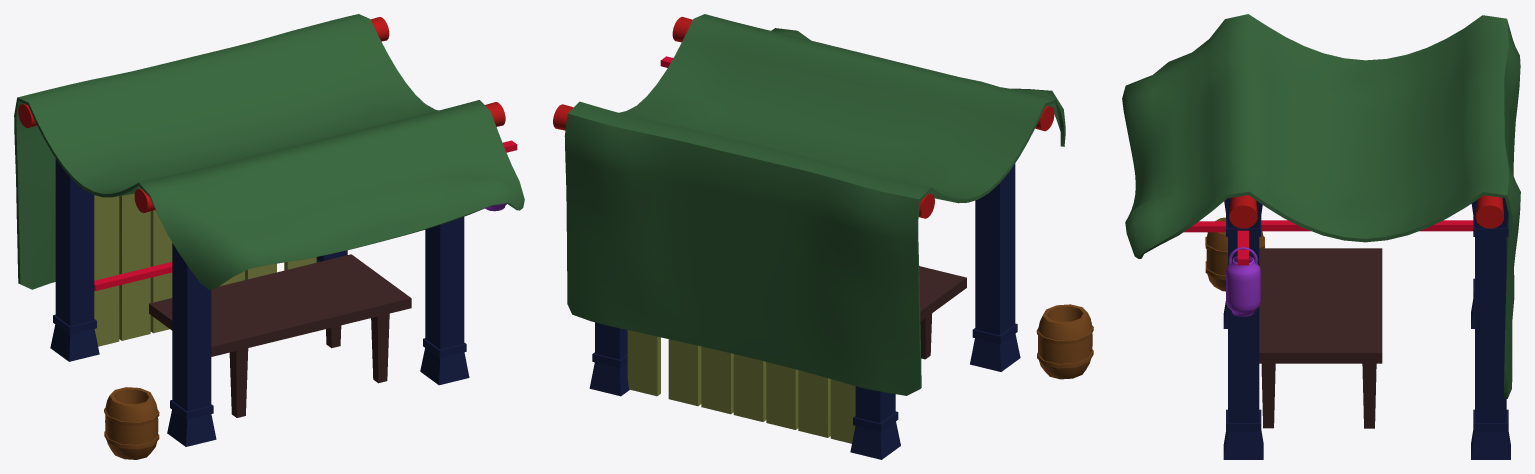
File: OA_Stall.FBX
3 views of the same model, side by side, from view 1: azimuth 30°, elevation 25°; view 2: azimuth 150°, elevation 25°; view 3: azimuth 270°, elevation 25° (orthographic). The views are drawn at different scales.
Visible parts, largest first — view 1: Cloth, Pillars, Table, Back Planks, Barrel, Top Planks, Planks; view 2: Cloth, Back Planks, Pillars, Barrel, Table, Top Planks; view 3: Cloth, Table, Pillars, Lantern, Planks, Top Planks, Barrel.
Boxes of the visible parts, <box> form: Cloth: <box>14,14,524,289</box>; Pillars: <box>50,158,469,446</box>; Table: <box>149,254,411,417</box>; Back Planks: <box>94,193,316,346</box>; Barrel: <box>104,387,159,459</box>; Top Planks: <box>18,17,505,212</box>; Planks: <box>94,140,517,290</box>; Cloth: <box>564,14,1065,395</box>; Back Planks: <box>627,330,855,443</box>; Pillars: <box>589,163,1020,459</box>; Barrel: <box>1036,304,1093,379</box>; Table: <box>919,266,966,359</box>; Top Planks: <box>553,17,1054,218</box>; Cloth: <box>1122,14,1520,398</box>; Table: <box>1259,248,1382,428</box>; Pillars: <box>1223,197,1510,459</box>; Lantern: <box>1226,247,1260,316</box>; Planks: <box>1184,220,1473,265</box>; Top Planks: <box>1229,195,1503,228</box>; Barrel: <box>1205,217,1264,291</box>.
Bounding box in the file's own units: 132 × 81.84 × 105.
